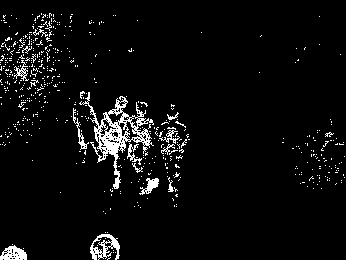person: (159, 104, 190, 208), (126, 101, 159, 194), (100, 95, 126, 192), (70, 90, 101, 160)
